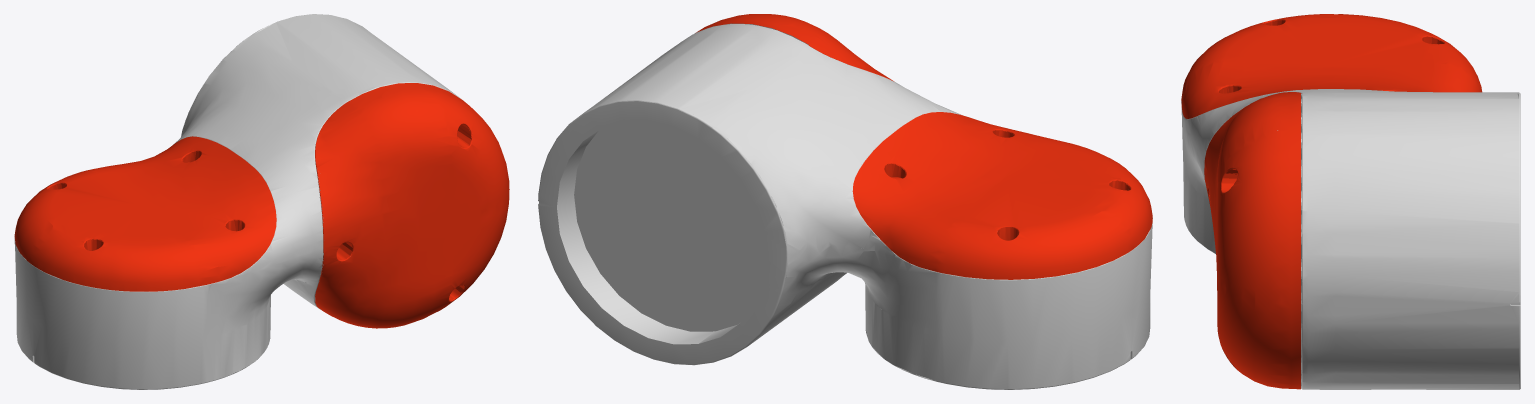
The picture shows the model from 3 angles, left to right: view 1: azimuth 30°, elevation 25°; view 2: azimuth 150°, elevation 25°; view 3: azimuth 270°, elevation 25°; orthographic projection. The views are drawn at different scales.
Parts seen in each view (by area): view 1: Mesh (×4); view 2: Mesh (×3); view 3: Mesh (×4).
Part boxes in pixels (bbox=[...]): Mesh (×4): bbox=[14, 14, 509, 389]; Mesh (×3): bbox=[538, 14, 1152, 389]; Mesh (×4): bbox=[1181, 14, 1520, 389].
Size of the model in its own units: 170 by 82.97 by 94.57.
